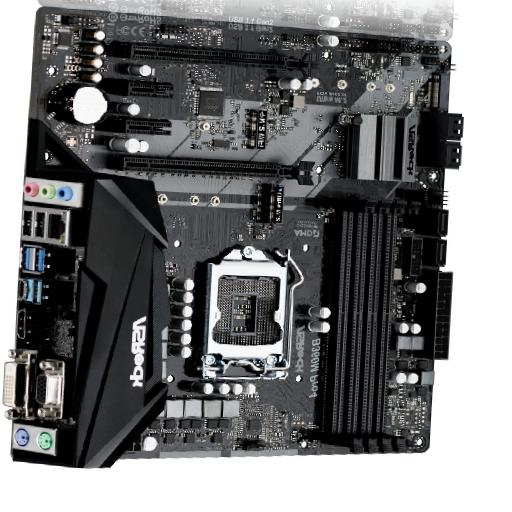CPU: (201, 245, 292, 380)
GPU: (118, 41, 314, 77), (106, 155, 316, 186)
MOTHERBOARD: (39, 7, 452, 453)
RAM: (323, 200, 419, 454)
SSD: (258, 183, 283, 223), (244, 108, 268, 148)
